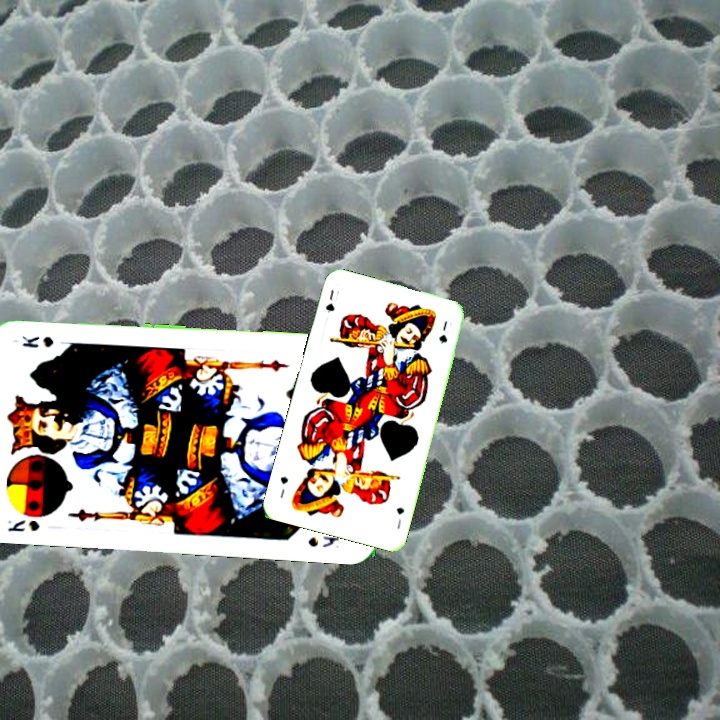GU: (321, 285, 342, 315), (392, 503, 407, 531)
SK: (3, 516, 42, 534)
